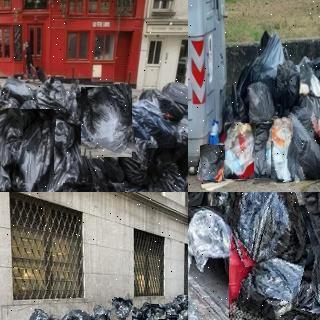Garbage: (232, 242, 320, 320), (220, 192, 314, 263), (188, 204, 231, 320), (0, 108, 55, 192), (78, 85, 135, 159), (293, 192, 320, 308), (280, 107, 320, 181), (147, 147, 188, 192), (225, 123, 256, 179), (270, 118, 295, 182), (247, 79, 278, 128), (251, 122, 272, 178), (199, 144, 229, 181), (277, 65, 300, 106), (18, 302, 55, 320), (111, 298, 132, 320), (69, 305, 93, 320), (151, 304, 166, 319), (180, 308, 188, 320)
